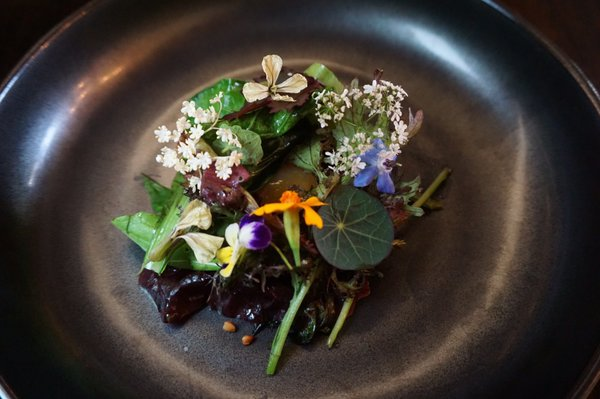sushi: (1, 2, 572, 395)
